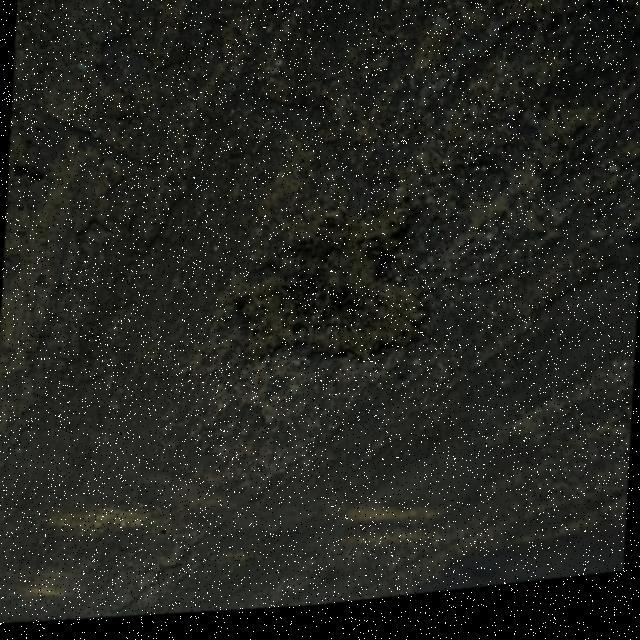pothole: (222, 200, 439, 388)
